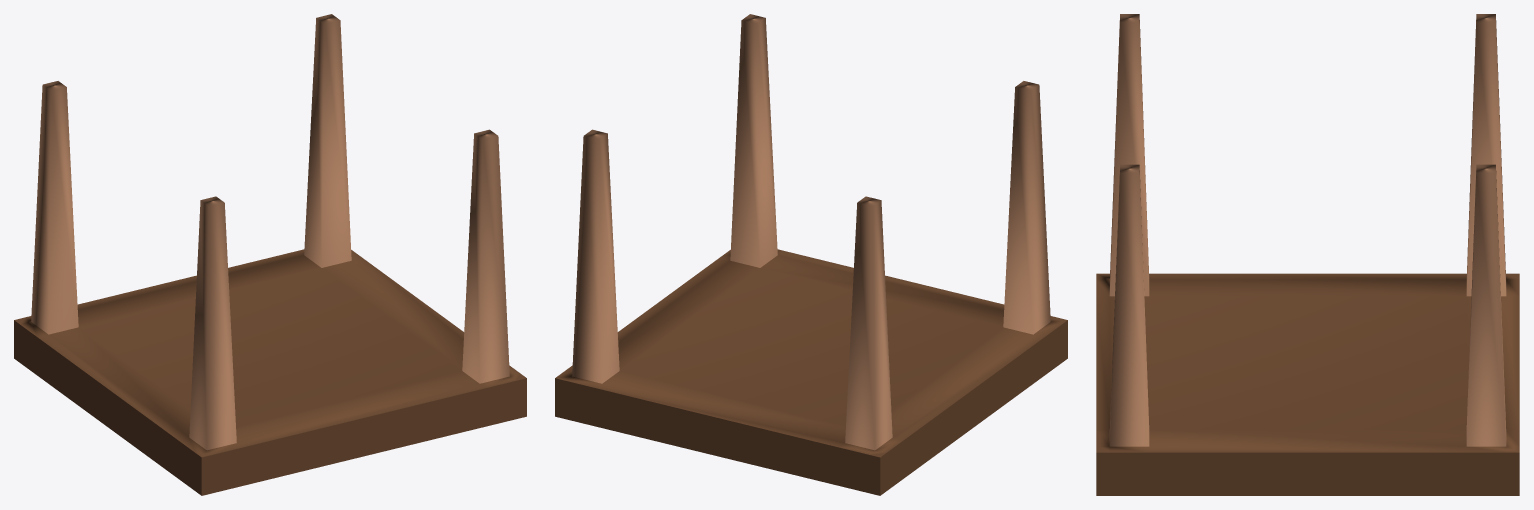
File: TallTable.fbx
The picture shows the model from 3 angles, left to right: view 1: azimuth 30°, elevation 25°; view 2: azimuth 150°, elevation 25°; view 3: azimuth 270°, elevation 25°; orthographic projection. The views are drawn at different scales.
Visible parts, largest first — view 1: pCube96; view 2: pCube96; view 3: pCube96.
Part boxes in pixels (x1,y1,x2,y2): pCube96: (14,14,526,495); pCube96: (555,14,1067,495); pCube96: (1096,14,1519,495).
Bounding box in the file's own units: 1000 × 815 × 1000.
